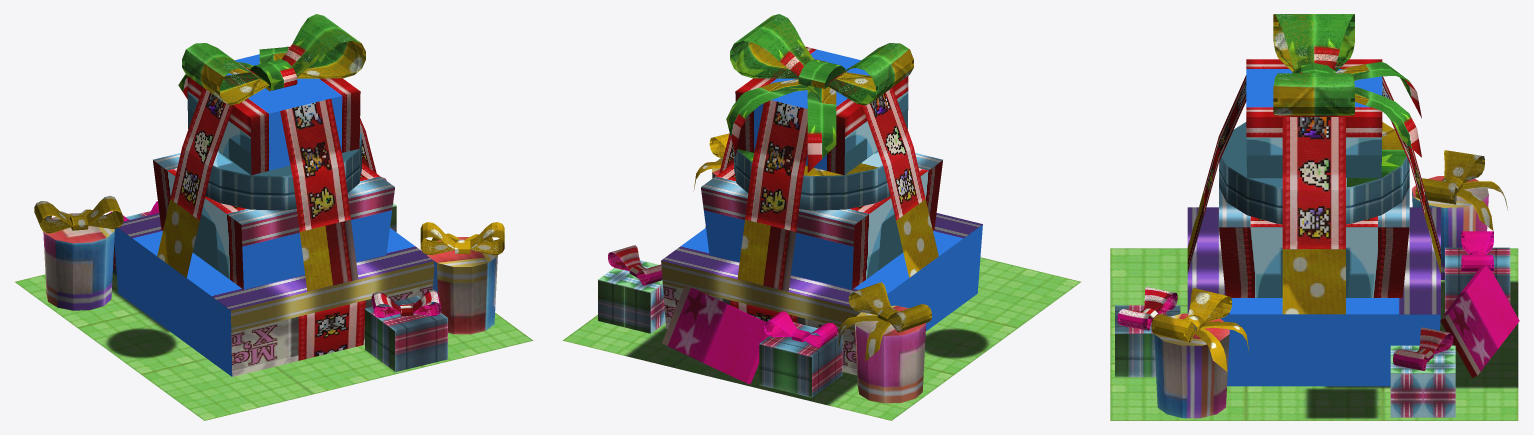
The model's file is christmasGifts.glb.
3 views of the same model, side by side, from view 1: azimuth 30°, elevation 25°; view 2: azimuth 150°, elevation 25°; view 3: azimuth 270°, elevation 25° (orthographic). The views are drawn at different scales.
Visible parts, largest first — view 1: presentbox.4; view 2: presentbox.4; view 3: presentbox.4.
Part boxes in pixels (left/top/right/bottom): presentbox.4: left=15, top=14, right=532, bottom=420; presentbox.4: left=563, top=14, right=1080, bottom=420; presentbox.4: left=1110, top=14, right=1519, bottom=420.
Bounding box in the file's own units: 6.13 × 4.57 × 5.87.
Materials: 2 (2 with a texture image).
